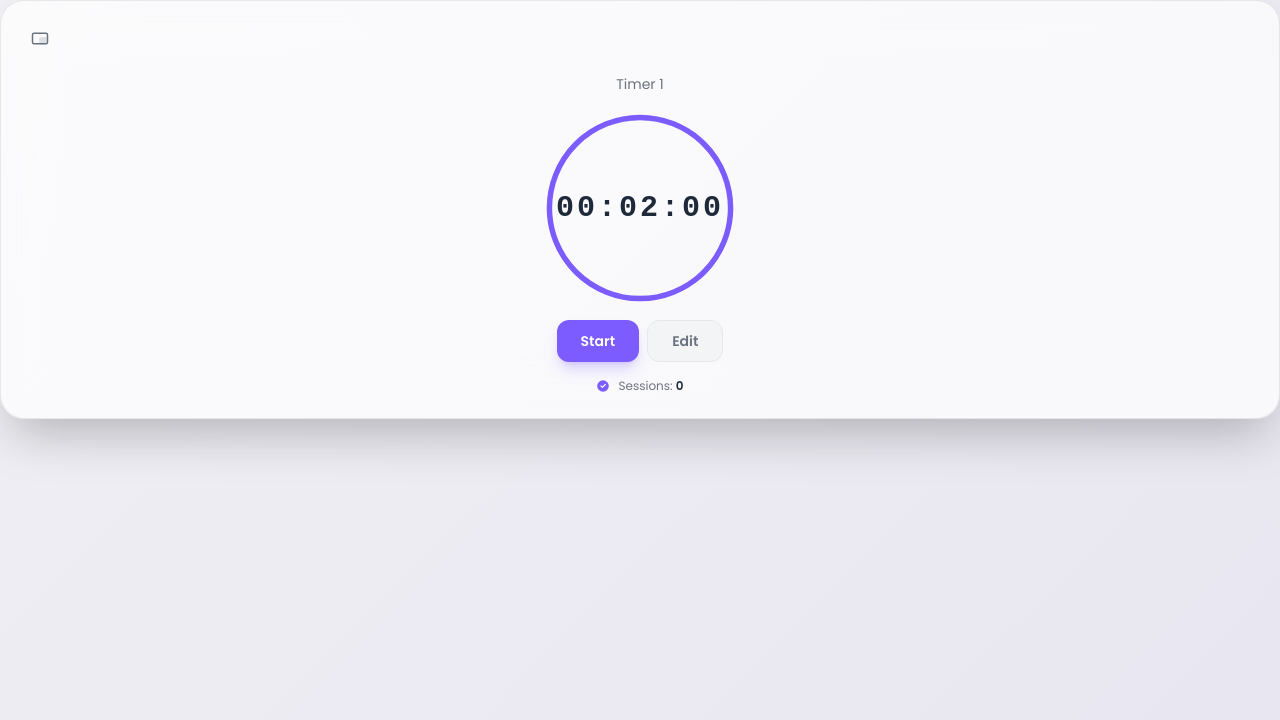
TimerCard › inline time editing › should enter edit mode when time display is clicked in idle state
The image size is (1280, 720).
Click the button named "Click to edit time": (640, 208) [556, 190, 724, 226]
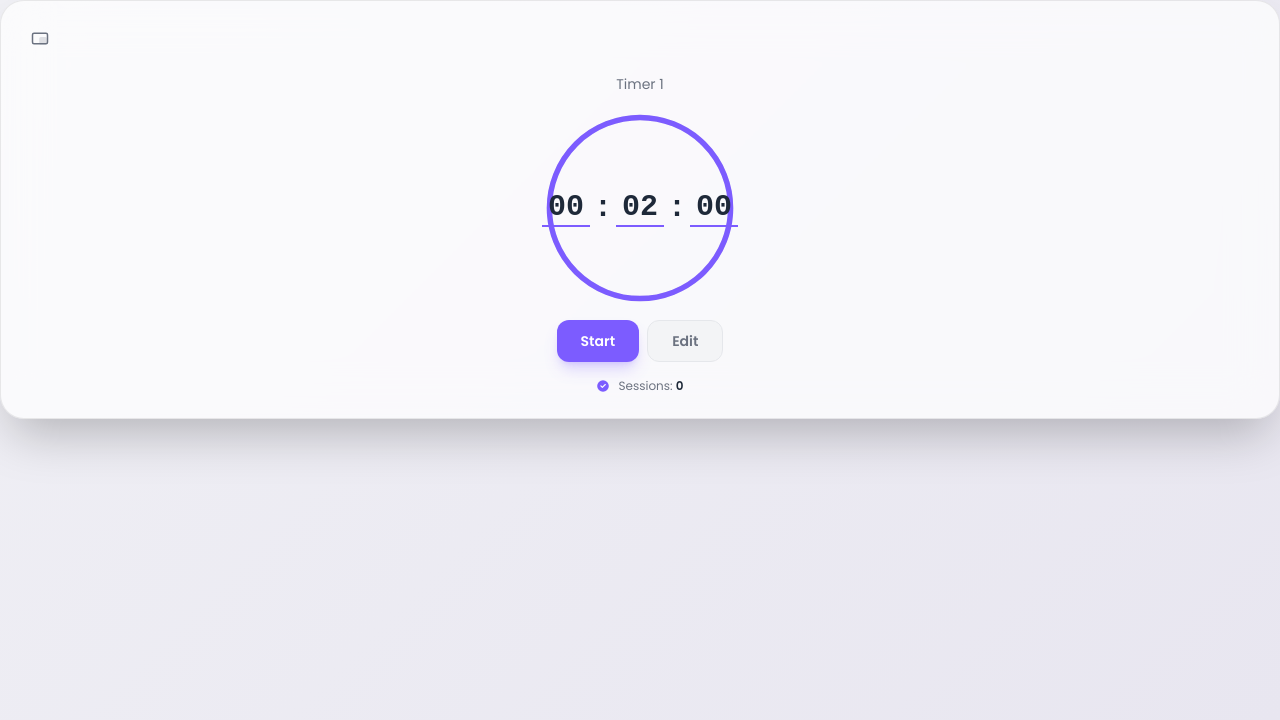
Now the field named "edit hours" is shown, box [542, 189, 590, 227]
Now the field named "edit minutes" is shown, box [616, 189, 664, 227]
Now the field named "edit seconds" is shown, box [690, 189, 738, 227]
